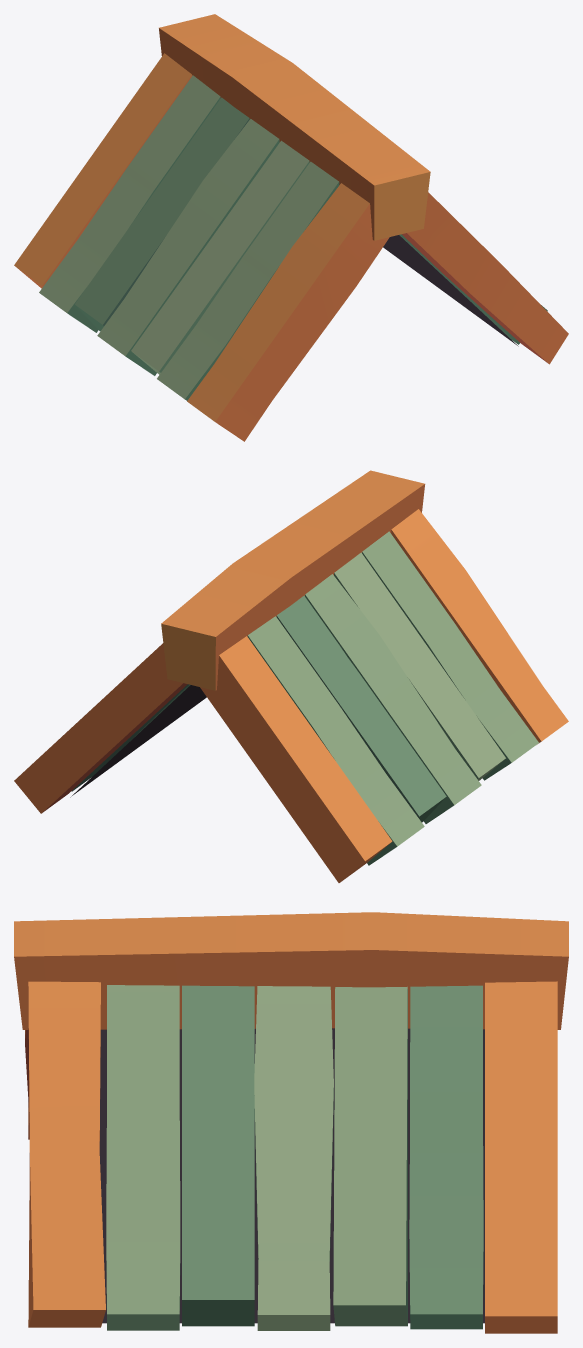
File: Roof02_Green_Wood.glb
3 renders of one model, top to bottom at view 1: azimuth 30°, elevation 25°; view 2: azimuth 150°, elevation 25°; view 3: azimuth 270°, elevation 25°, orthographic. The views are drawn at different scales.
Visible parts, largest first — view 1: Roof02_Green_Wood; view 2: Roof02_Green_Wood; view 3: Roof02_Green_Wood.
Boxes of the visible parts, box(x1,y1,x2,y2) form: Roof02_Green_Wood: box(14, 14, 568, 441); Roof02_Green_Wood: box(14, 470, 568, 882); Roof02_Green_Wood: box(14, 912, 568, 1333).
Bounding box in the file's own units: 2.41 × 1.49 × 2.46.
Materials: 1 (1 with a texture image).
